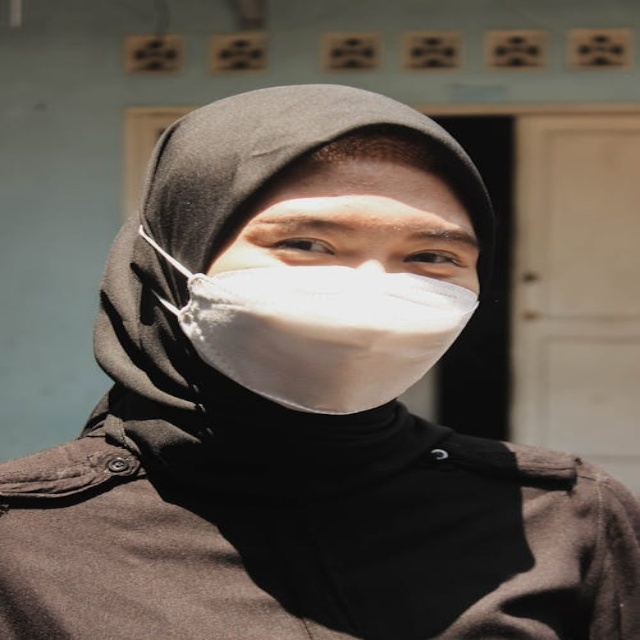Mascara: (155, 228, 482, 414)
Sin_gafas: (251, 207, 468, 275)
